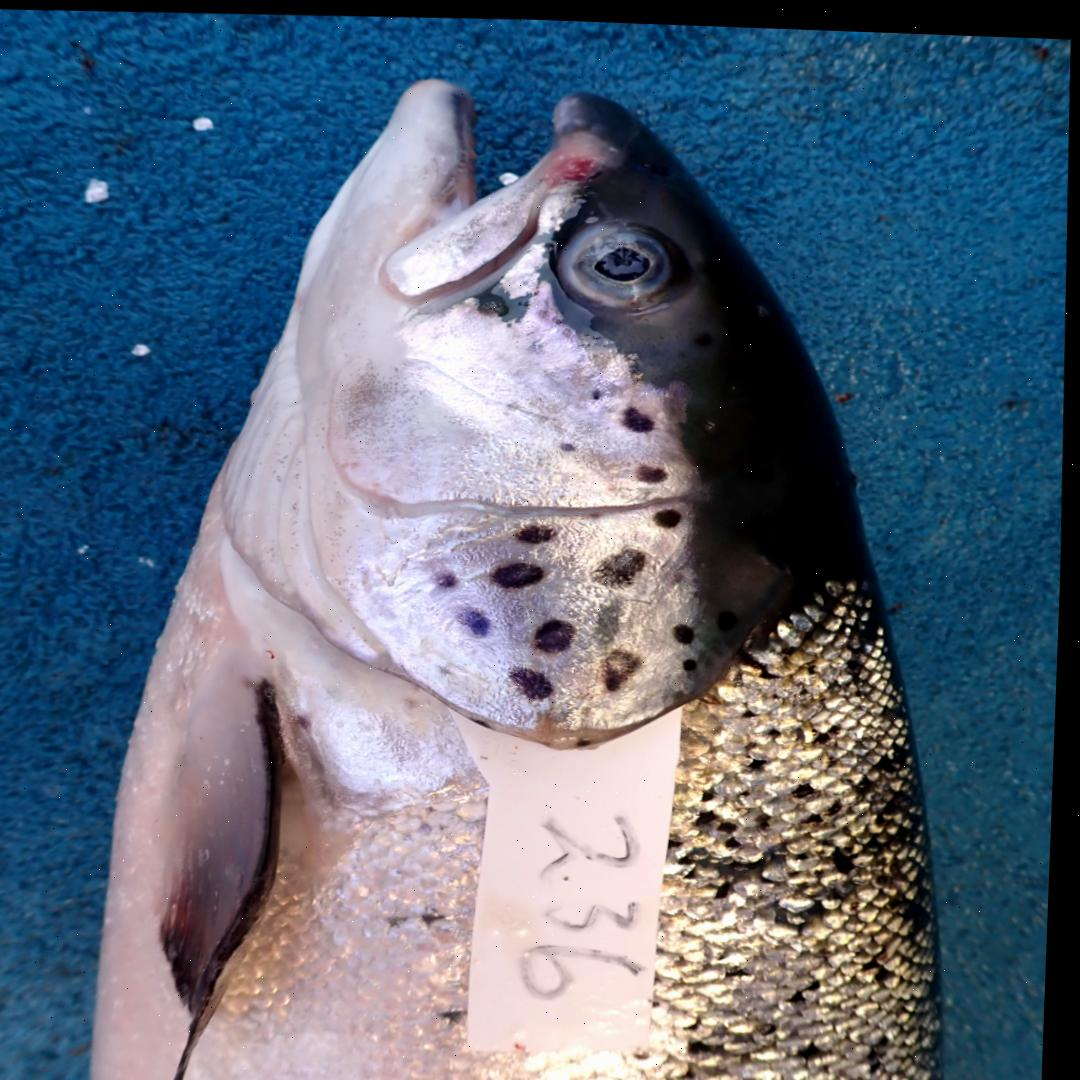spot: (597, 545, 649, 584), (607, 644, 645, 688), (493, 559, 548, 585), (515, 663, 558, 696), (539, 615, 579, 650), (598, 599, 626, 637), (625, 402, 657, 428), (467, 606, 496, 632), (520, 520, 557, 540), (658, 504, 684, 524), (642, 461, 670, 478), (677, 619, 698, 639), (441, 569, 461, 586), (686, 654, 700, 665), (564, 438, 578, 449), (594, 385, 608, 395)
